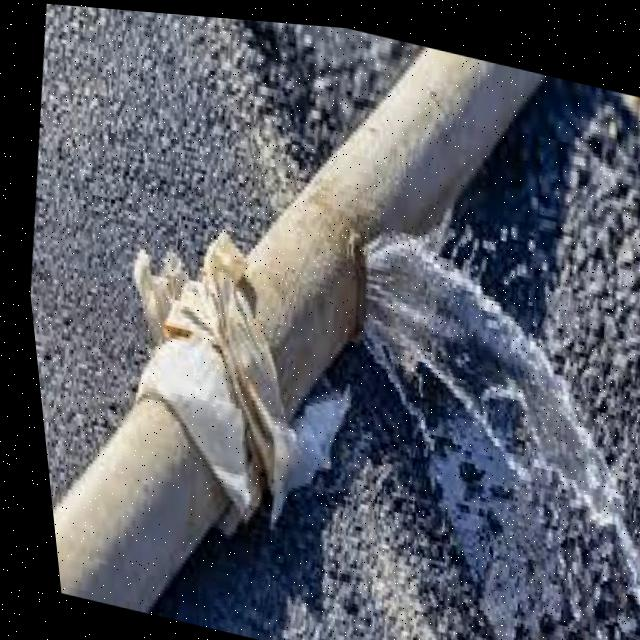corrosion: (173, 200, 431, 449)
